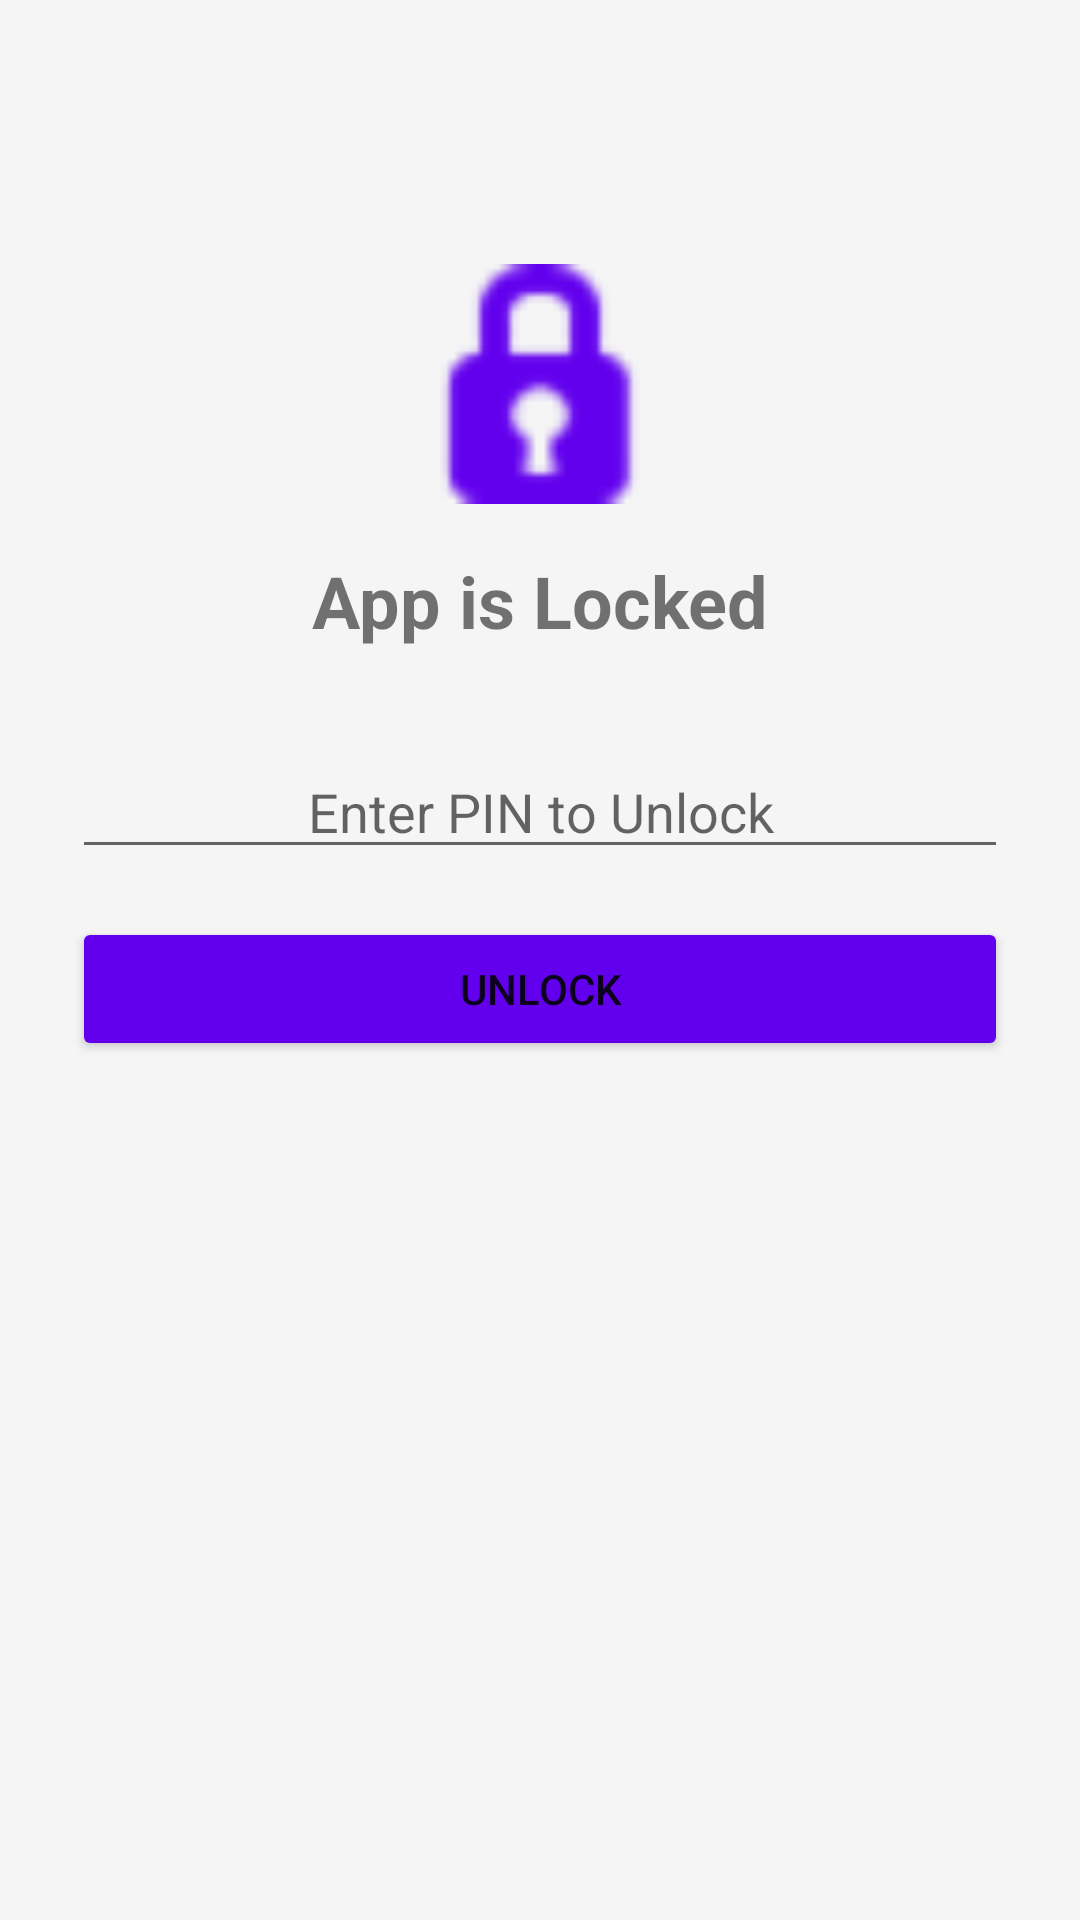

Point at icon controls on the screen. Image size 1080w x 1920h, points as point (x, y).
secure: point (538, 384)
